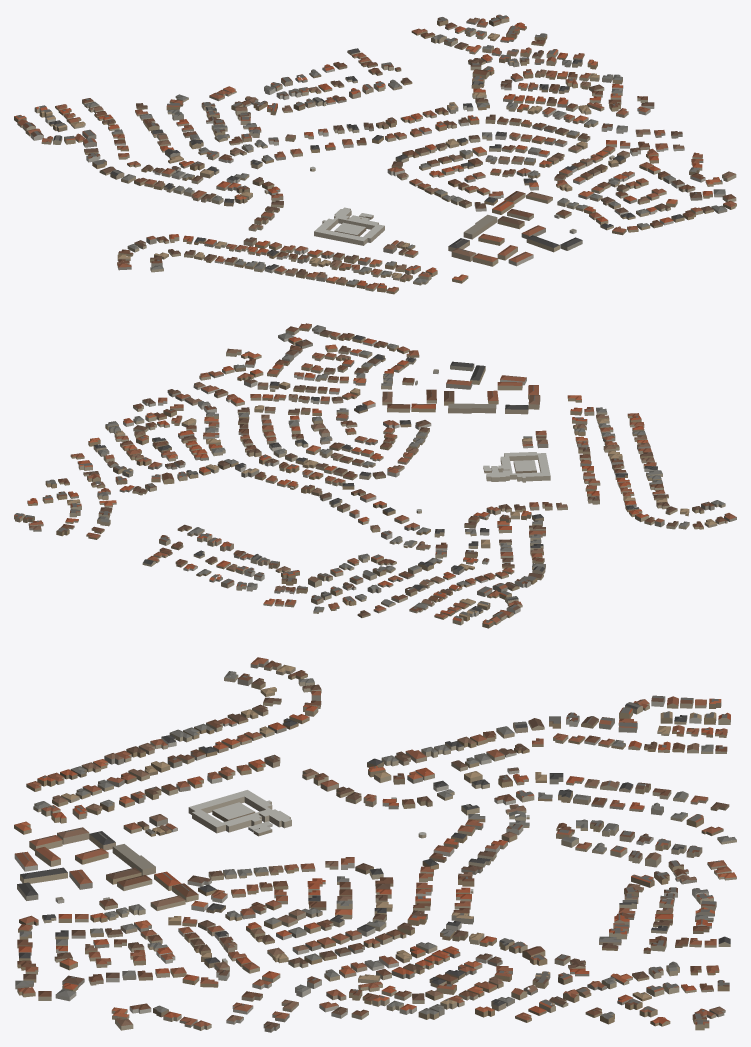
3 renders of one model, top to bottom at view 1: azimuth 30°, elevation 25°; view 2: azimuth 150°, elevation 25°; view 3: azimuth 270°, elevation 25°, orthographic. The views are drawn at different scales.
Parts seen in each view (by area): view 1: buildings_r7_c6_lod1; view 2: buildings_r7_c6_lod1; view 3: buildings_r7_c6_lod1.
Boxes of the visible parts, x1,y1,x2,y2 form: buildings_r7_c6_lod1: (14, 14, 736, 294); buildings_r7_c6_lod1: (14, 323, 736, 628); buildings_r7_c6_lod1: (14, 657, 736, 1032).
Bounding box in the file's own units: 959 × 52.34 × 807.
